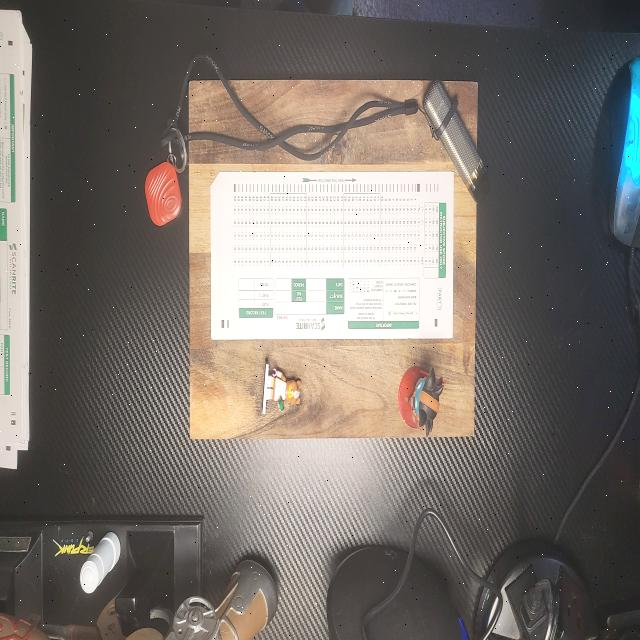scantron: (210, 171, 454, 340)
